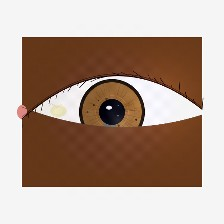pinguecula_lesion: (42, 98, 75, 124)
